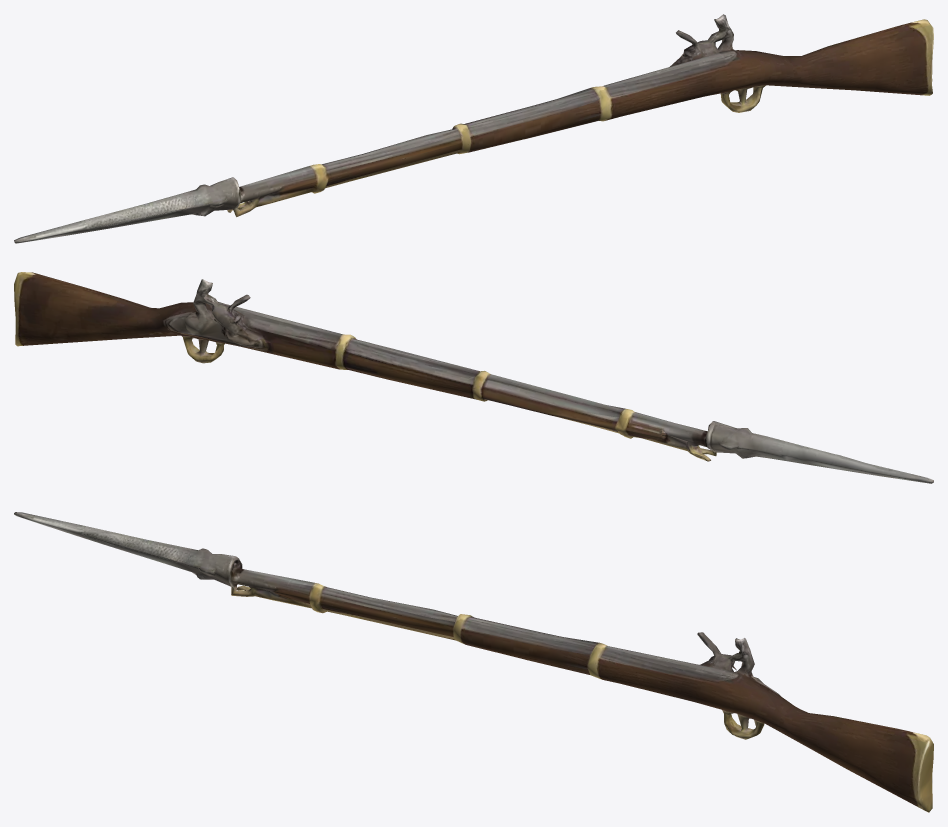
Rendered from bc6b8c09-5d21-440c-b145-eee190c2e0cf.glb.
3 views of the same model, one above another, from view 1: azimuth 30°, elevation 25°; view 2: azimuth 150°, elevation 25°; view 3: azimuth 330°, elevation 25° (orthographic).
Parts seen in each view (by area): view 1: Mesh_0.001; view 2: Mesh_0.001; view 3: Mesh_0.001.
Boxes of the visible parts, <box> form: Mesh_0.001: <box>14,14,933,243</box>; Mesh_0.001: <box>14,272,933,483</box>; Mesh_0.001: <box>14,512,933,812</box>.
Bounding box in the file's own units: 10.26 × 1.3 × 0.5186.
Materials: 1 (1 with a texture image).
